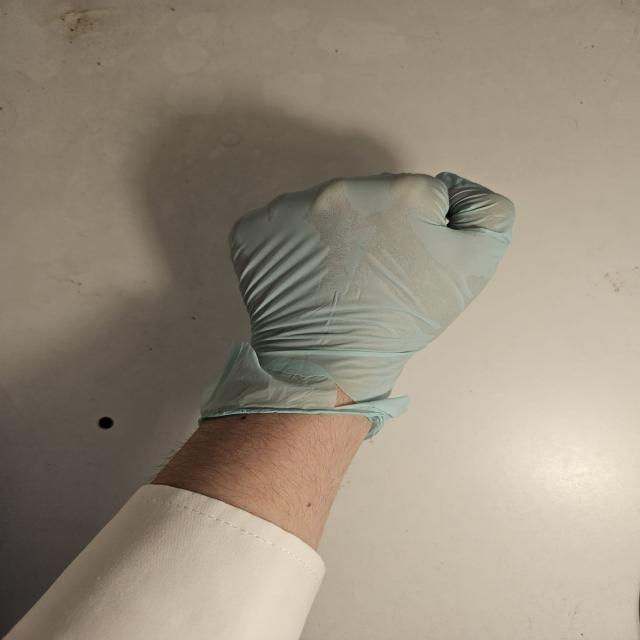gloves_damaged: (198, 169, 518, 442)
